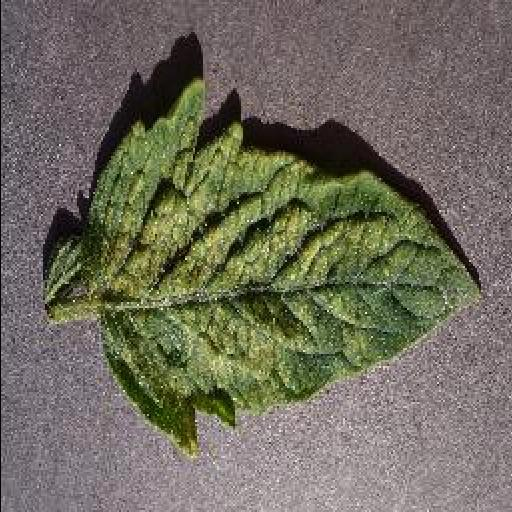disease_tomato: (78, 78, 484, 456)
